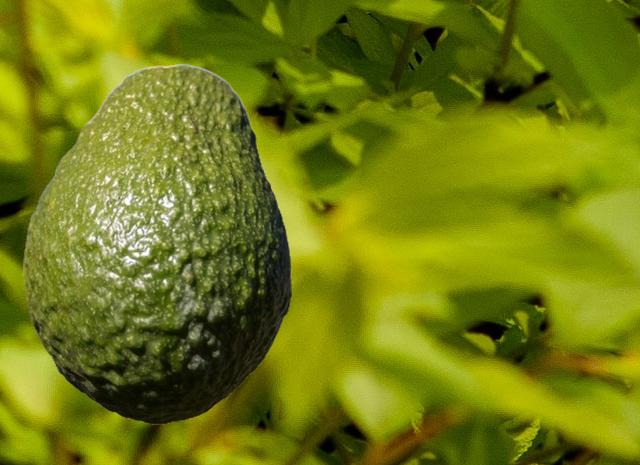avocado: (23, 63, 290, 423)
